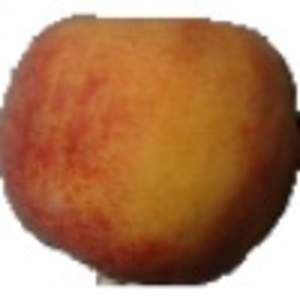pêssego: (1, 1, 300, 288)
